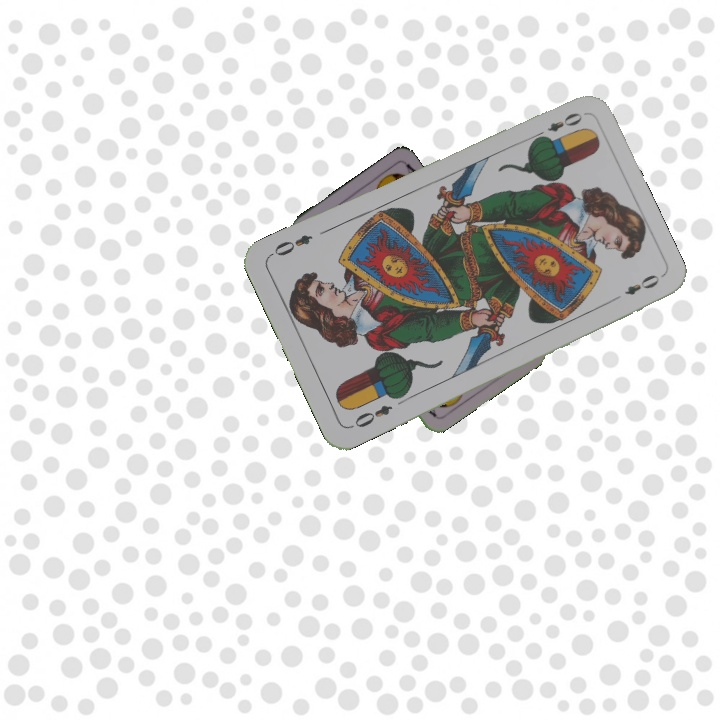EO: (530, 108, 585, 142), (346, 401, 395, 431)
